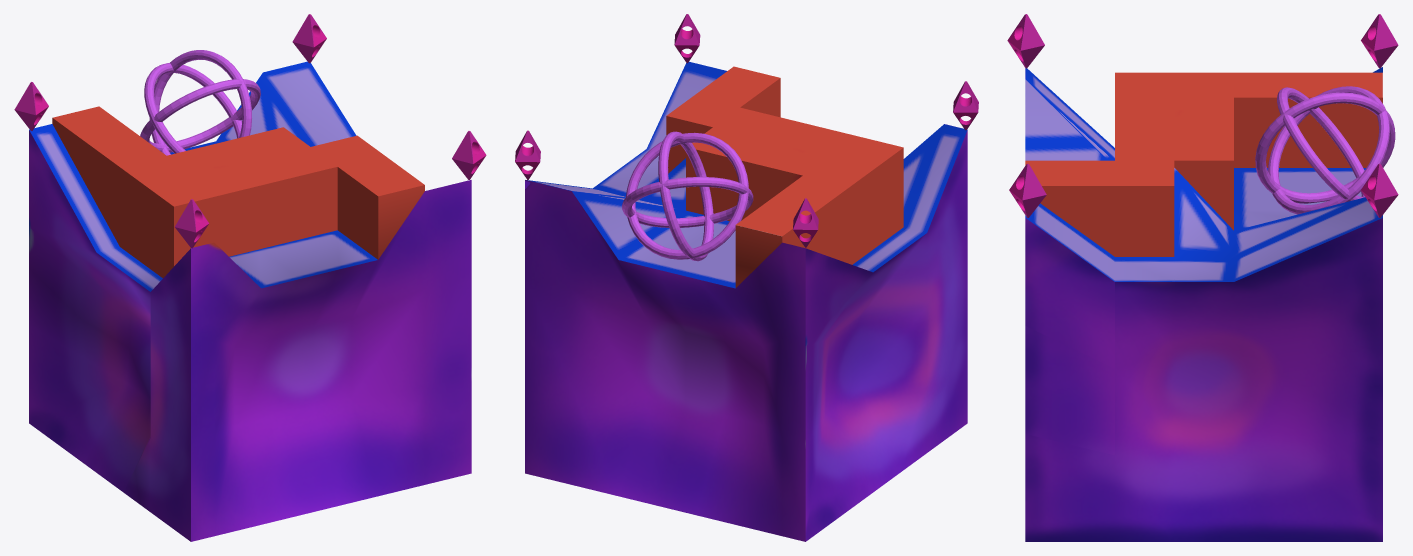
The model's file is Level 2 FIXED.fbx.
The picture shows the model from 3 angles, left to right: view 1: azimuth 30°, elevation 25°; view 2: azimuth 150°, elevation 25°; view 3: azimuth 270°, elevation 25°; orthographic projection. The views are drawn at different scales.
Parts seen in each view (by area): view 1: Level 2, Torus.001, Cube.005, Cube.008, Cube.004, Cube.003; view 2: Level 2, Torus.001, Cube.003, Cube.005, Cube.008, Cube.004; view 3: Level 2, Torus.001, Cube.008, Cube.004, Cube.003, Cube.005.
Boxes of the visible parts, x1,y1,x2,y2 form: Level 2: (29, 61, 471, 541); Torus.001: (140, 50, 260, 155); Cube.005: (14, 82, 48, 130); Cube.008: (175, 199, 208, 248); Cube.004: (452, 131, 486, 179); Cube.003: (292, 14, 326, 63); Level 2: (525, 61, 967, 541); Torus.001: (622, 131, 753, 261); Cube.003: (515, 130, 540, 179); Cube.005: (793, 198, 818, 247); Cube.008: (953, 81, 978, 130); Cube.004: (674, 14, 700, 63); Level 2: (1025, 67, 1382, 541); Torus.001: (1255, 86, 1395, 214); Cube.008: (1007, 14, 1044, 68); Cube.004: (1009, 163, 1046, 217); Cube.003: (1361, 163, 1398, 217); Cube.005: (1361, 14, 1398, 68).
Size of the model in its own units: 1315 by 1422 by 1313.
